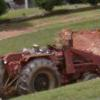Tractor: (8, 30, 90, 89)
